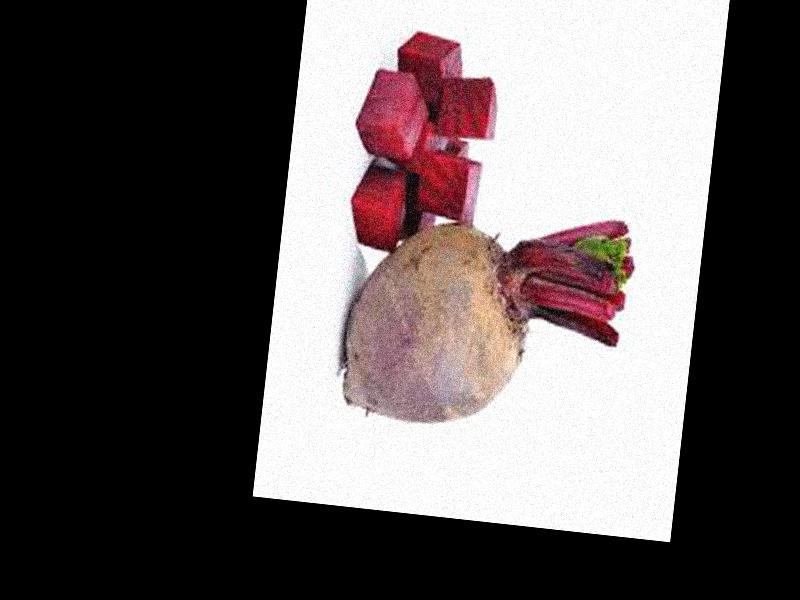Beet: (335, 192, 636, 443)
